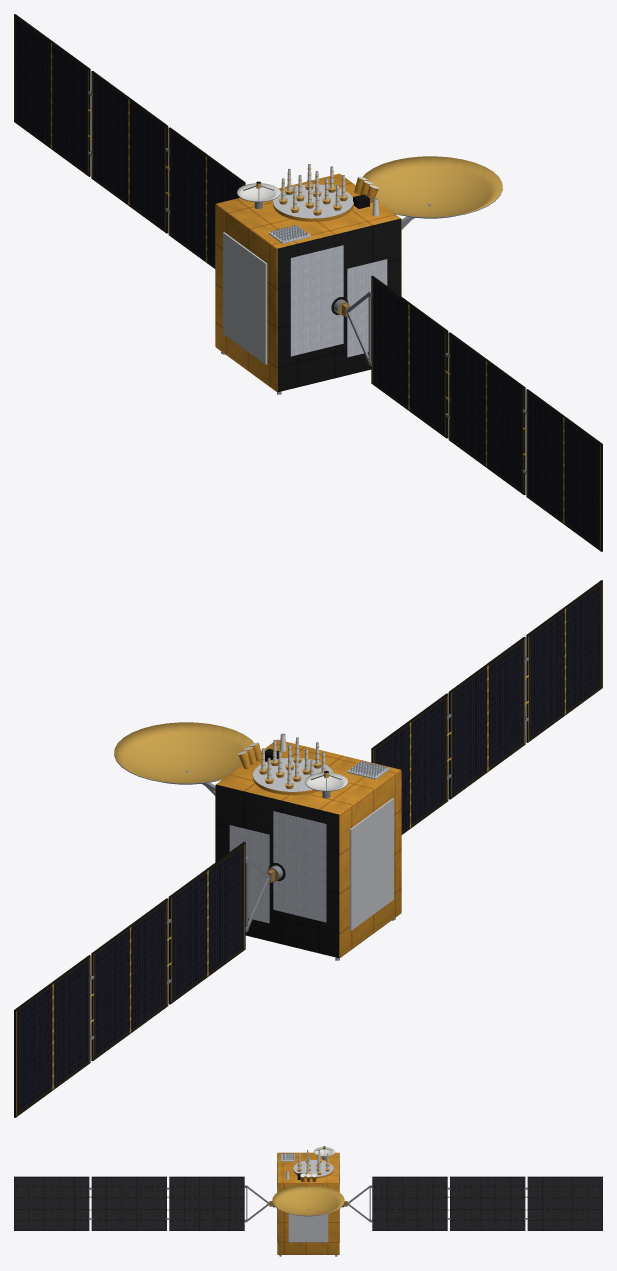
File: bds2-geo.glb
3 views of the same model, one above another, from view 1: azimuth 30°, elevation 25°; view 2: azimuth 150°, elevation 25°; view 3: azimuth 270°, elevation 25° (orthographic). The views are drawn at different scales.
Visible parts, largest first — view 1: bus, wing-Y, wing+Y, rdss_ca_dish, nadir_payload_deck; view 2: bus, wing+Y, wing-Y, rdss_ca_dish, nadir_payload_deck; view 3: wing+Y, wing-Y, bus, rdss_ca_dish, nadir_payload_deck.
Part boxes in pixels (box(x1,y1,x2,y2)): bus: box(215, 173, 401, 392); wing-Y: box(342, 275, 602, 551); wing+Y: box(14, 14, 245, 268); rdss_ca_dish: box(354, 156, 502, 229); nadir_payload_deck: box(237, 164, 379, 243); bus: box(215, 739, 401, 958); wing+Y: box(14, 841, 274, 1117); wing-Y: box(371, 580, 602, 834); rdss_ca_dish: box(114, 722, 261, 795); nadir_payload_deck: box(253, 733, 389, 798); wing+Y: box(344, 1176, 602, 1230); wing-Y: box(14, 1176, 272, 1230); bus: box(277, 1152, 339, 1254); rdss_ca_dish: box(272, 1173, 344, 1216); nadir_payload_deck: box(281, 1146, 335, 1179).
Size of the model in its own units: 3.98 by 2.92 by 16.24.
17 materials, 5 textured.
